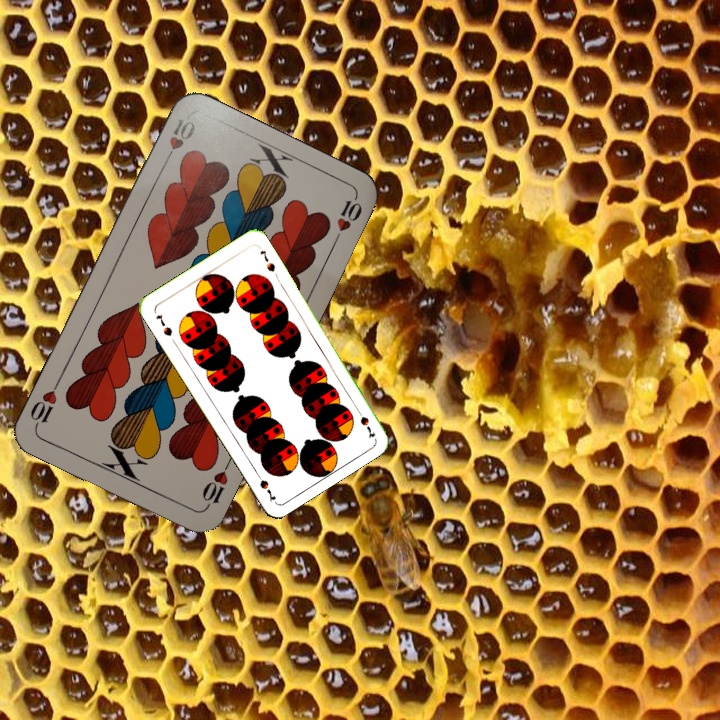H10: (159, 115, 198, 168), (198, 456, 234, 511)
S7: (352, 403, 378, 440), (152, 309, 175, 339)
